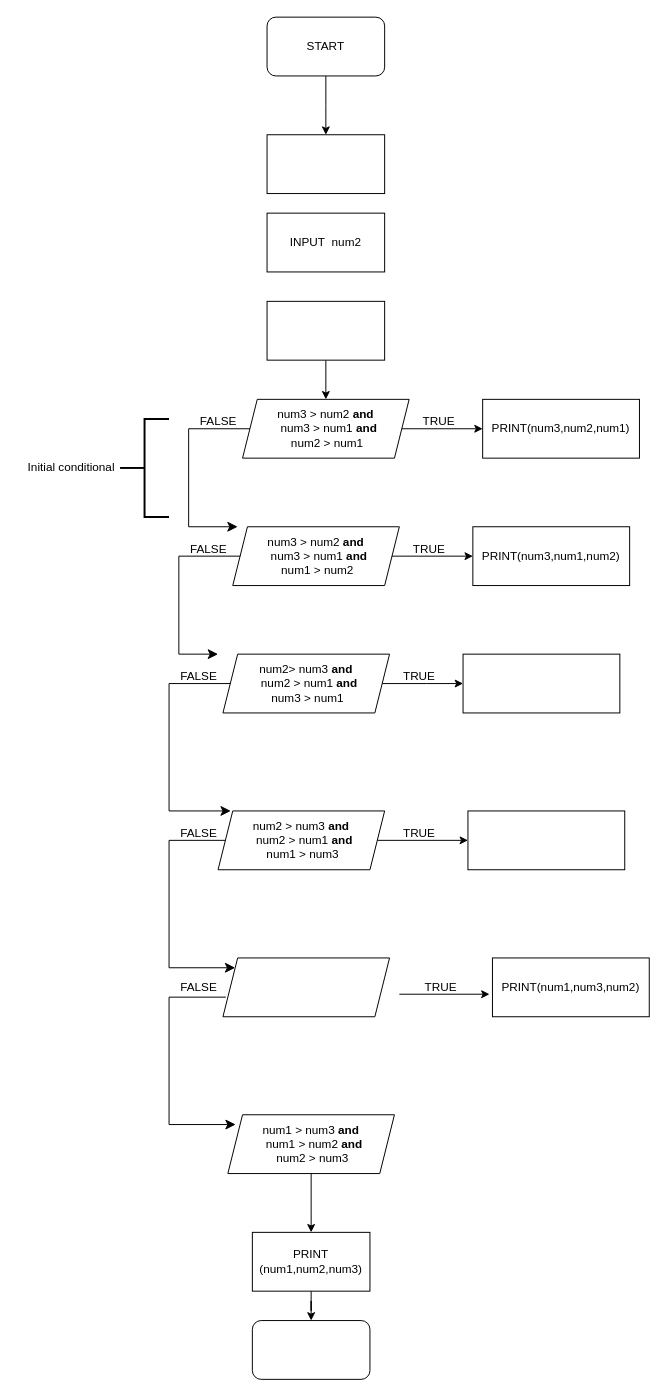
Image size: 666x1397. Some labels were removed from this diagram. The box of each missing label's shape, as (x1, y1, x2, y2) in pixels:
END: (251, 1320, 370, 1379)
INPUT num1: (266, 134, 385, 194)
INPUT num3: (266, 300, 385, 360)
num1 > num3 and num1 > num2 and num3 > num2: (222, 957, 390, 1017)
PRINT(num2,num1,num3): (467, 810, 625, 870)
PRINT(num2,num3,num1): (462, 653, 620, 713)
